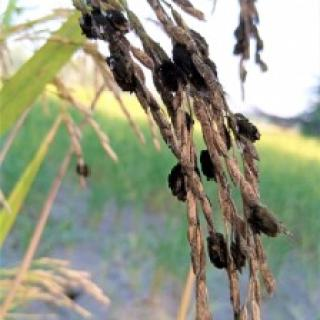Gosong-Palsu: (170, 30, 221, 94), (204, 220, 247, 279), (74, 6, 140, 42), (250, 202, 294, 246), (104, 49, 144, 95), (228, 108, 266, 148), (165, 158, 190, 202)
